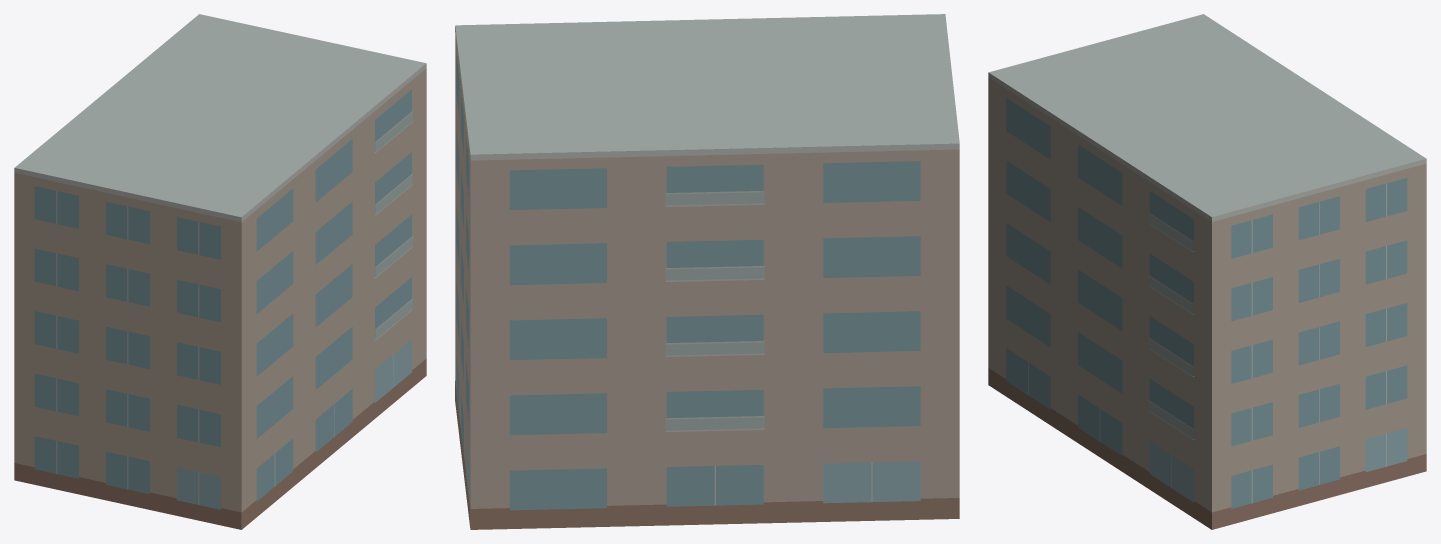
Rendered from survey-upis-33016088.glb.
3 views of the same model, side by side, from view 1: azimuth 30°, elevation 25°; view 2: azimuth 150°, elevation 25°; view 3: azimuth 270°, elevation 25° (orthographic). The views are drawn at different scales.
Visible parts, largest first — view 1: survey-upis-33016088.tmp; view 2: survey-upis-33016088.tmp; view 3: survey-upis-33016088.tmp.
Boxes of the visible parts, x1=… form: survey-upis-33016088.tmp: x1=14, y1=14, x2=426, y2=529; survey-upis-33016088.tmp: x1=455, y1=14, x2=959, y2=529; survey-upis-33016088.tmp: x1=988, y1=14, x2=1426, y2=529.
Size of the model in its own units: 21.61 by 15.5 by 19.69.
